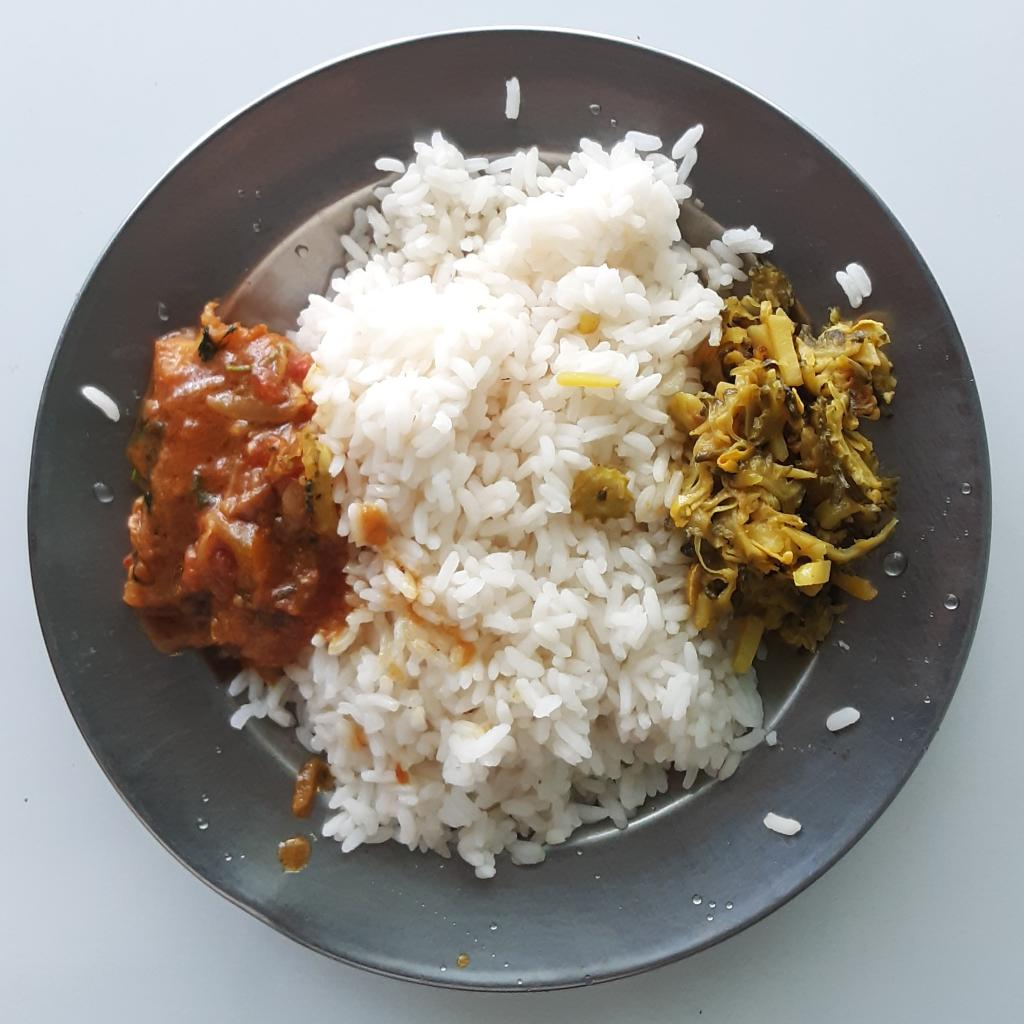fish: (122, 285, 349, 670)
korola-vaji: (674, 251, 900, 675)
rice: (231, 117, 779, 883)
